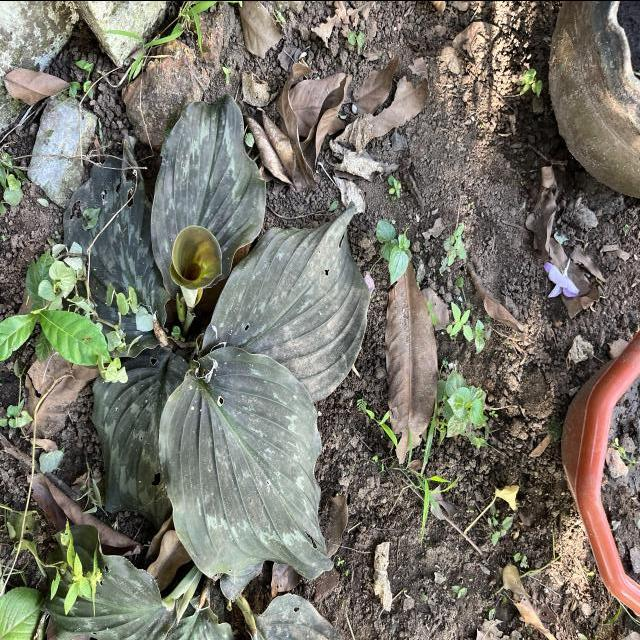Kaempferia galanga linn: (156, 343, 337, 582), (196, 197, 372, 402), (149, 90, 268, 301)
